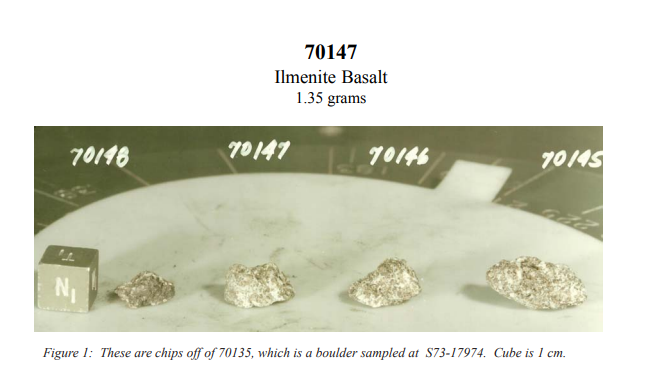Basalt: (478, 256, 594, 319), (362, 253, 426, 325), (205, 270, 298, 314), (116, 265, 168, 322)
